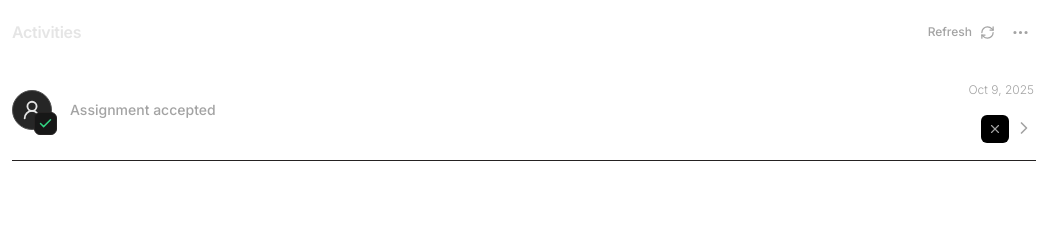
it: TileShareActivityTimeline › keeps the activity visible when saving dismissal fails
Expected: the text "Assignment accepted" is shown, top-left (70, 101), bottom-right (216, 118)
Click the button named "Dismiss".
click(995, 129)  # box top-left (981, 115), bottom-right (1009, 143)
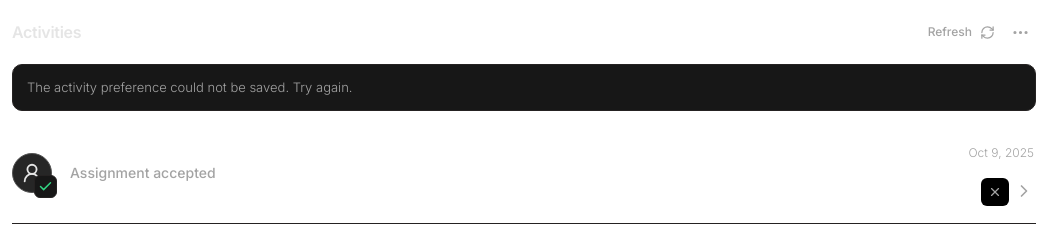
Expected: the text "Assignment accepted" is shown, top-left (70, 164), bottom-right (216, 181)
Expected: the message "The activity preference could not be saved. Try again." is shown, top-left (12, 64), bottom-right (1036, 111)
